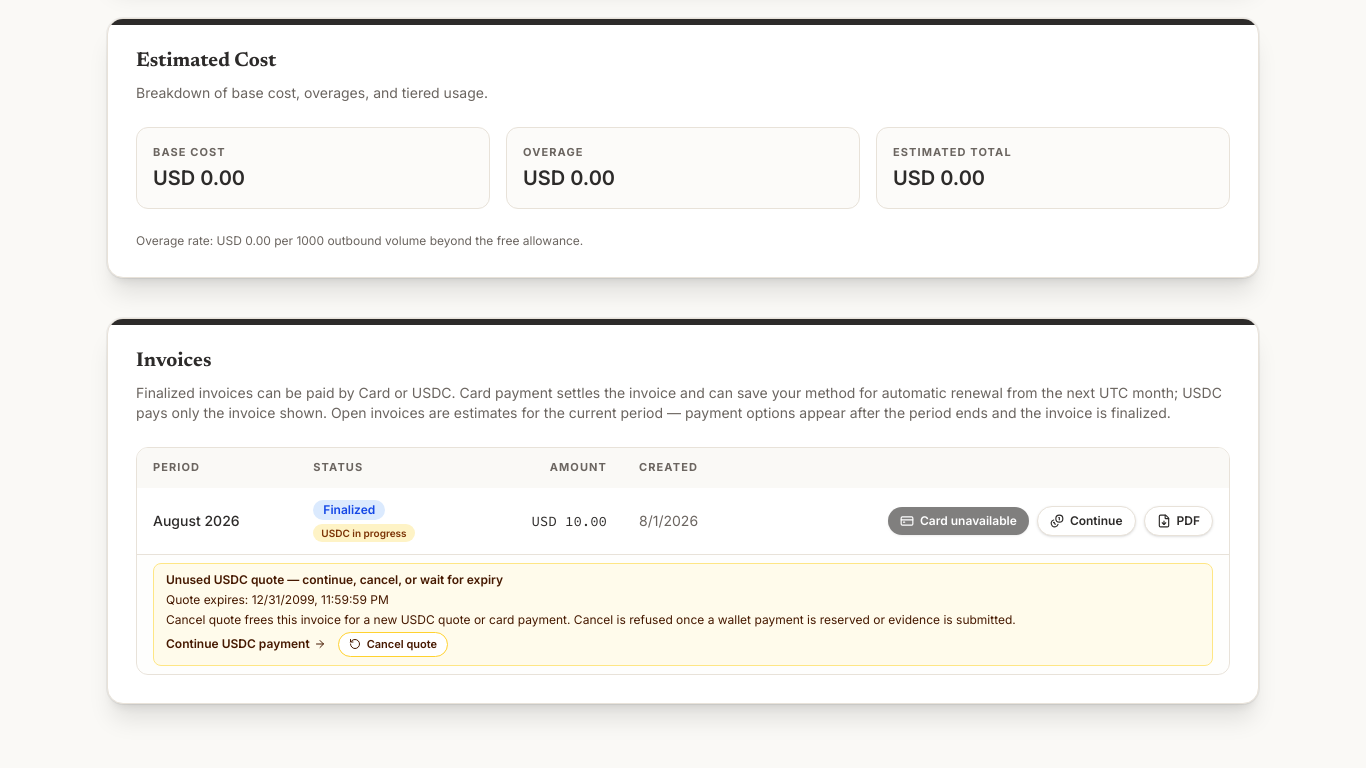
Billing — BILL-018 payment status recovery and BILL-003 card lock › offers Cancel quote for a clean pending USDC attempt and cancels after confirm
(page scrolled)
Click the button with aria-label "Cancel unused USDC quote" at point(393, 644), box [338,632,448,657]
(page scrolled)
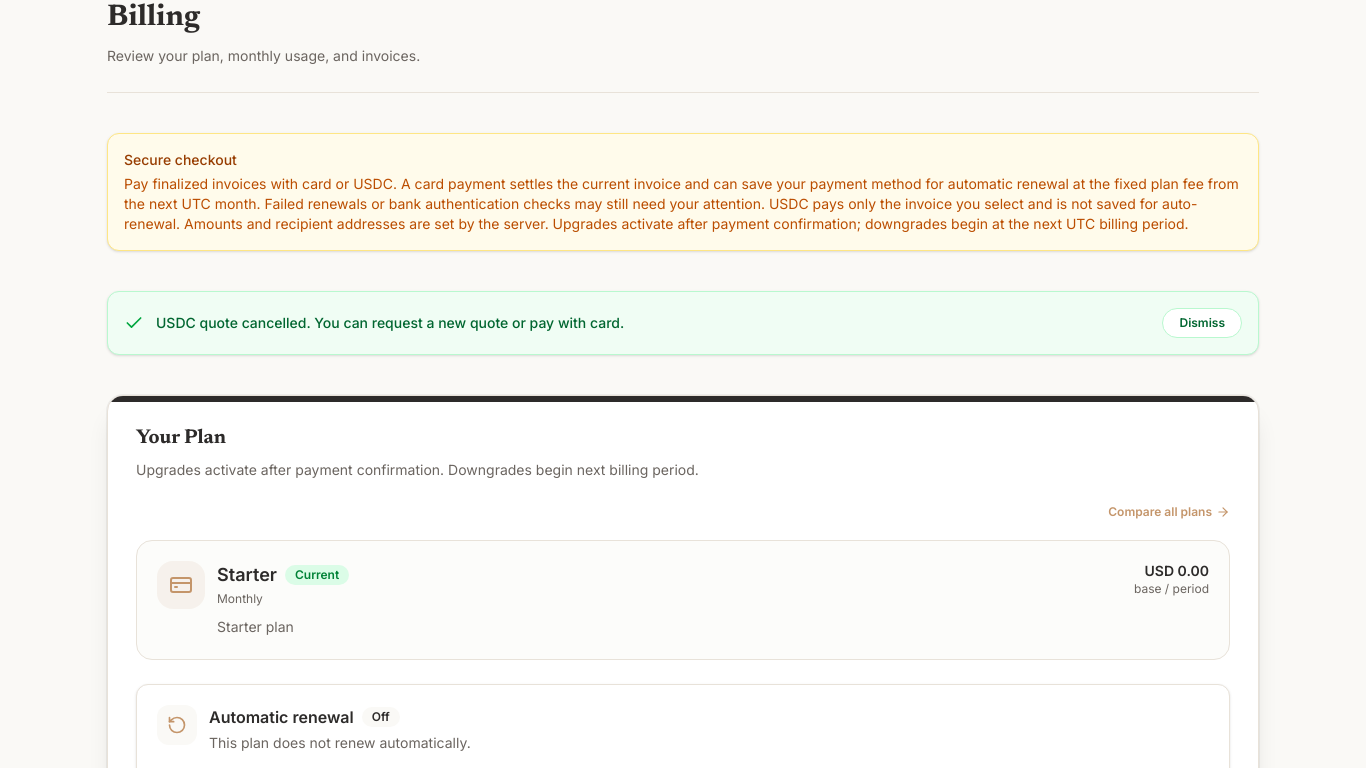
Expected: the text "USDC quote cancelled" is shown, [156,314,624,331]
